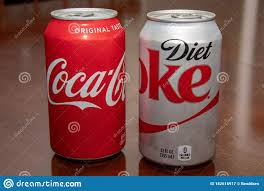can: (136, 3, 229, 165), (38, 8, 129, 160)
